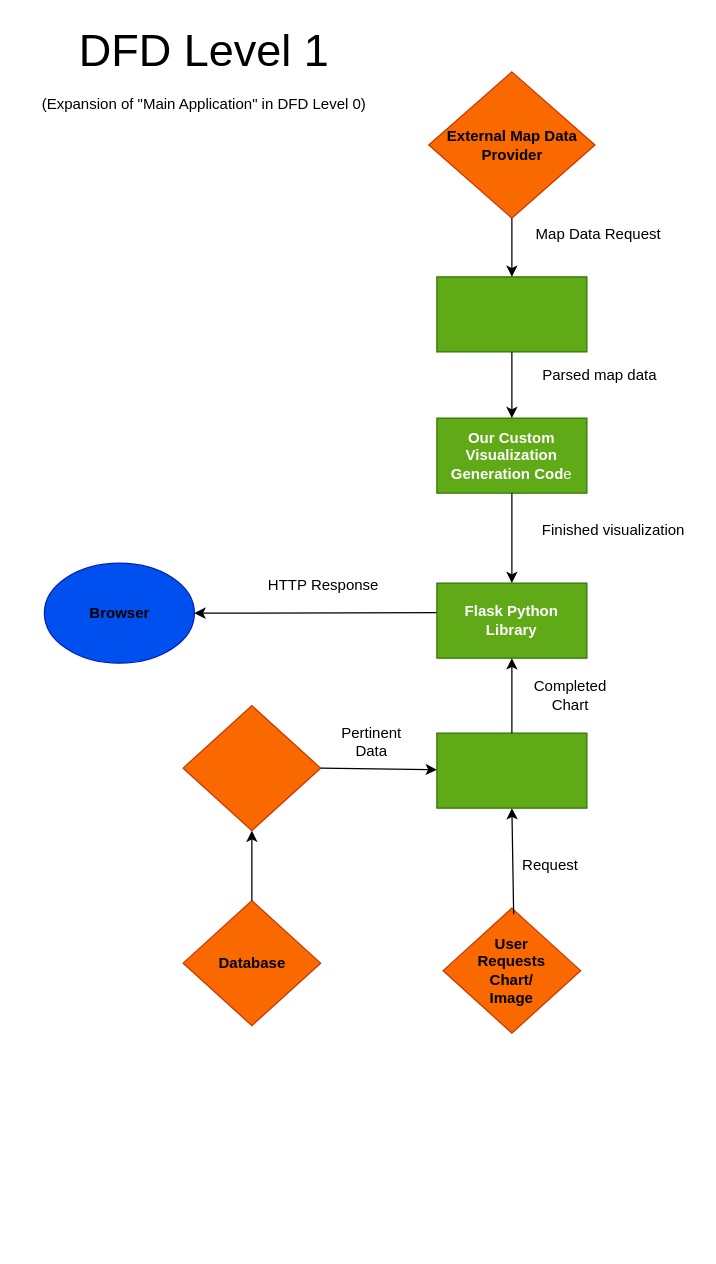
The diagram is 716 pixels wide and 1264 high, and some of its shapes have lost their labels. The centre of each missing label's shape, as x and y in pixels:
"Cached Data" belongs at [251,767].
"GEOJSON/Shapefile Parser" belongs at [511,314].
"Plotly Uses Data to Create Chart" belongs at [511,770].
